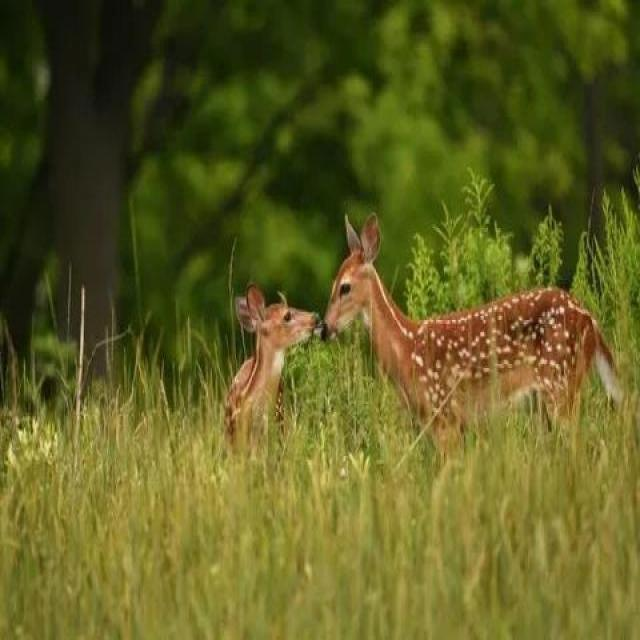deer: (309, 167, 632, 520), (200, 263, 334, 494)
